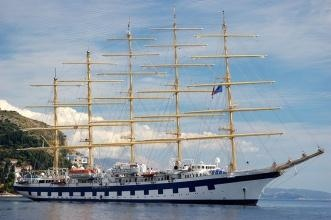fanchuan: (12, 16, 326, 199)
